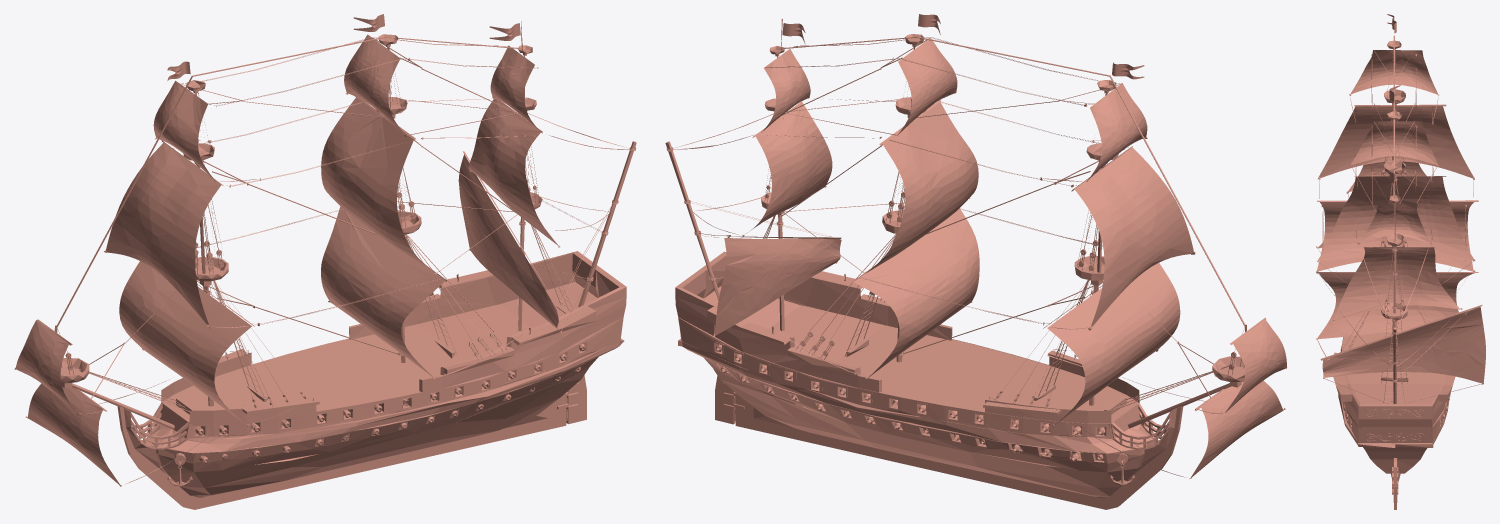
File: ship_r_optimized_light.glb
3 renders of one model, left to right at view 1: azimuth 30°, elevation 25°; view 2: azimuth 150°, elevation 25°; view 3: azimuth 270°, elevation 25°, orthographic. The views are drawn at different scales.
Visible parts, largest first — view 1: Object_30, Object_33, Object_7, Object_16, Object_39, Object_36, Object_40, Object_32, Object_31, Object_17; view 2: Object_30, Object_33, Object_7, Object_39, Object_16, Object_36, Object_40, Object_32, Object_31; view 3: Object_30, Object_33, Object_7, Object_39, Object_16, Object_6.
Part boxes in pixels (<box>): Object_30: <box>15,34,559,486</box>; Object_33: <box>14,21,636,509</box>; Object_7: <box>57,36,635,484</box>; Object_16: <box>163,338,624,487</box>; Object_39: <box>146,251,626,475</box>; Object_36: <box>180,397,559,497</box>; Object_40: <box>195,343,585,463</box>; Object_32: <box>130,403,189,449</box>; Object_31: <box>194,362,582,462</box>; Object_17: <box>65,180,537,407</box>; Object_30: <box>714,38,1286,477</box>; Object_33: <box>665,19,1287,509</box>; Object_7: <box>666,36,1245,477</box>; Object_39: <box>676,251,1153,476</box>; Object_16: <box>678,338,1136,495</box>; Object_36: <box>742,398,1120,497</box>; Object_40: <box>716,344,1105,461</box>; Object_32: <box>1111,403,1170,449</box>; Object_31: <box>714,343,1106,462</box>; Object_30: <box>1317,50,1485,383</box>; Object_33: <box>1316,40,1483,509</box>; Object_7: <box>1317,35,1482,403</box>; Object_39: <box>1358,376,1432,451</box>; Object_16: <box>1338,345,1450,473</box>; Object_6: <box>1365,408,1424,441</box>.
Bounding box in the file's own units: 16.11 × 11.67 × 5.26.
